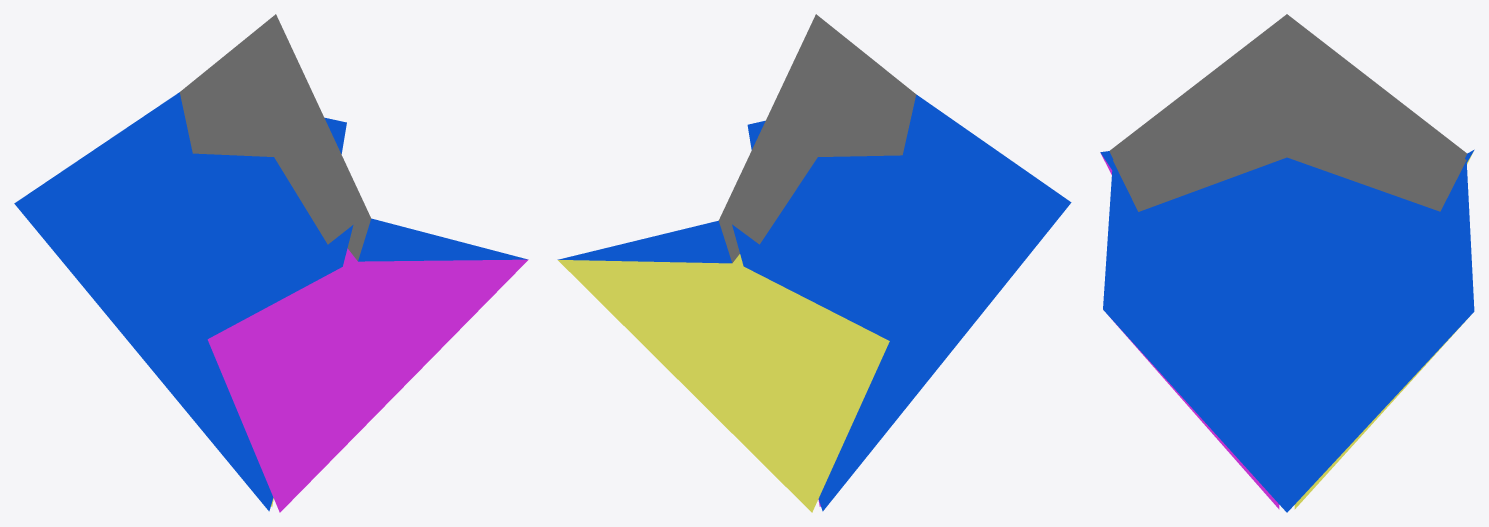
File: paper-bird-2.glb
The picture shows the model from 3 angles, left to right: view 1: azimuth 30°, elevation 25°; view 2: azimuth 150°, elevation 25°; view 3: azimuth 270°, elevation 25°; orthographic projection.
Visible parts, largest first — view 1: Plane; view 2: Plane; view 3: Plane.
Boxes of the visible parts, x1,y1,x2,y2 form: Plane: [14, 14, 528, 512]; Plane: [557, 14, 1071, 512]; Plane: [1100, 14, 1474, 512].
Size of the model in its own units: 7.02 by 10 by 6.85.
